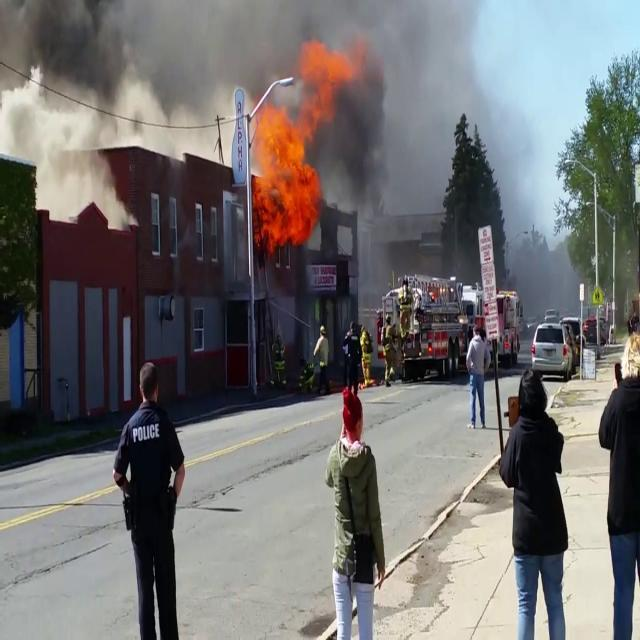Fire: (248, 51, 338, 248)
Smoke: (1, 0, 362, 127)
